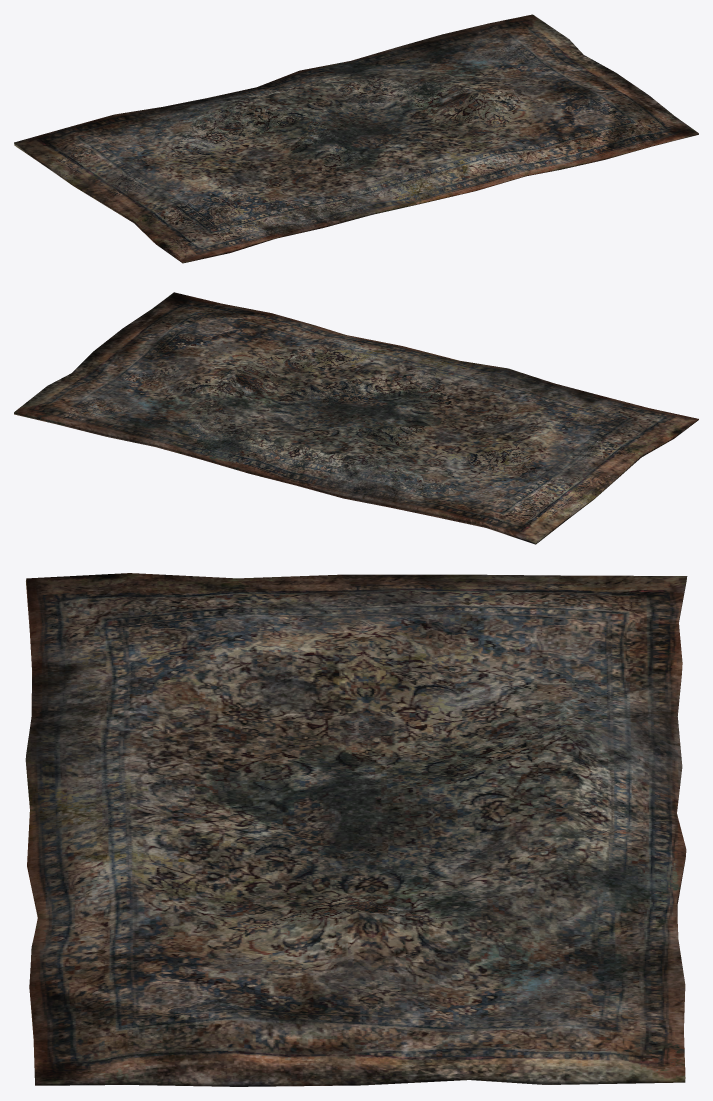
The model's file is carpet01.FBX.
3 renders of one model, top to bottom at view 1: azimuth 30°, elevation 25°; view 2: azimuth 150°, elevation 25°; view 3: azimuth 270°, elevation 25°, orthographic. The views are drawn at different scales.
Visible parts, largest first — view 1: SM_Carpet01; view 2: SM_Carpet01; view 3: SM_Carpet01.
Part boxes in pixels (x1,y1,x2,y2): SM_Carpet01: (14, 14, 698, 263); SM_Carpet01: (14, 292, 698, 544); SM_Carpet01: (25, 573, 687, 1086).
Bounding box in the file's own units: 290 × 15.04 × 159.
Materials: 1 (1 with a texture image).
